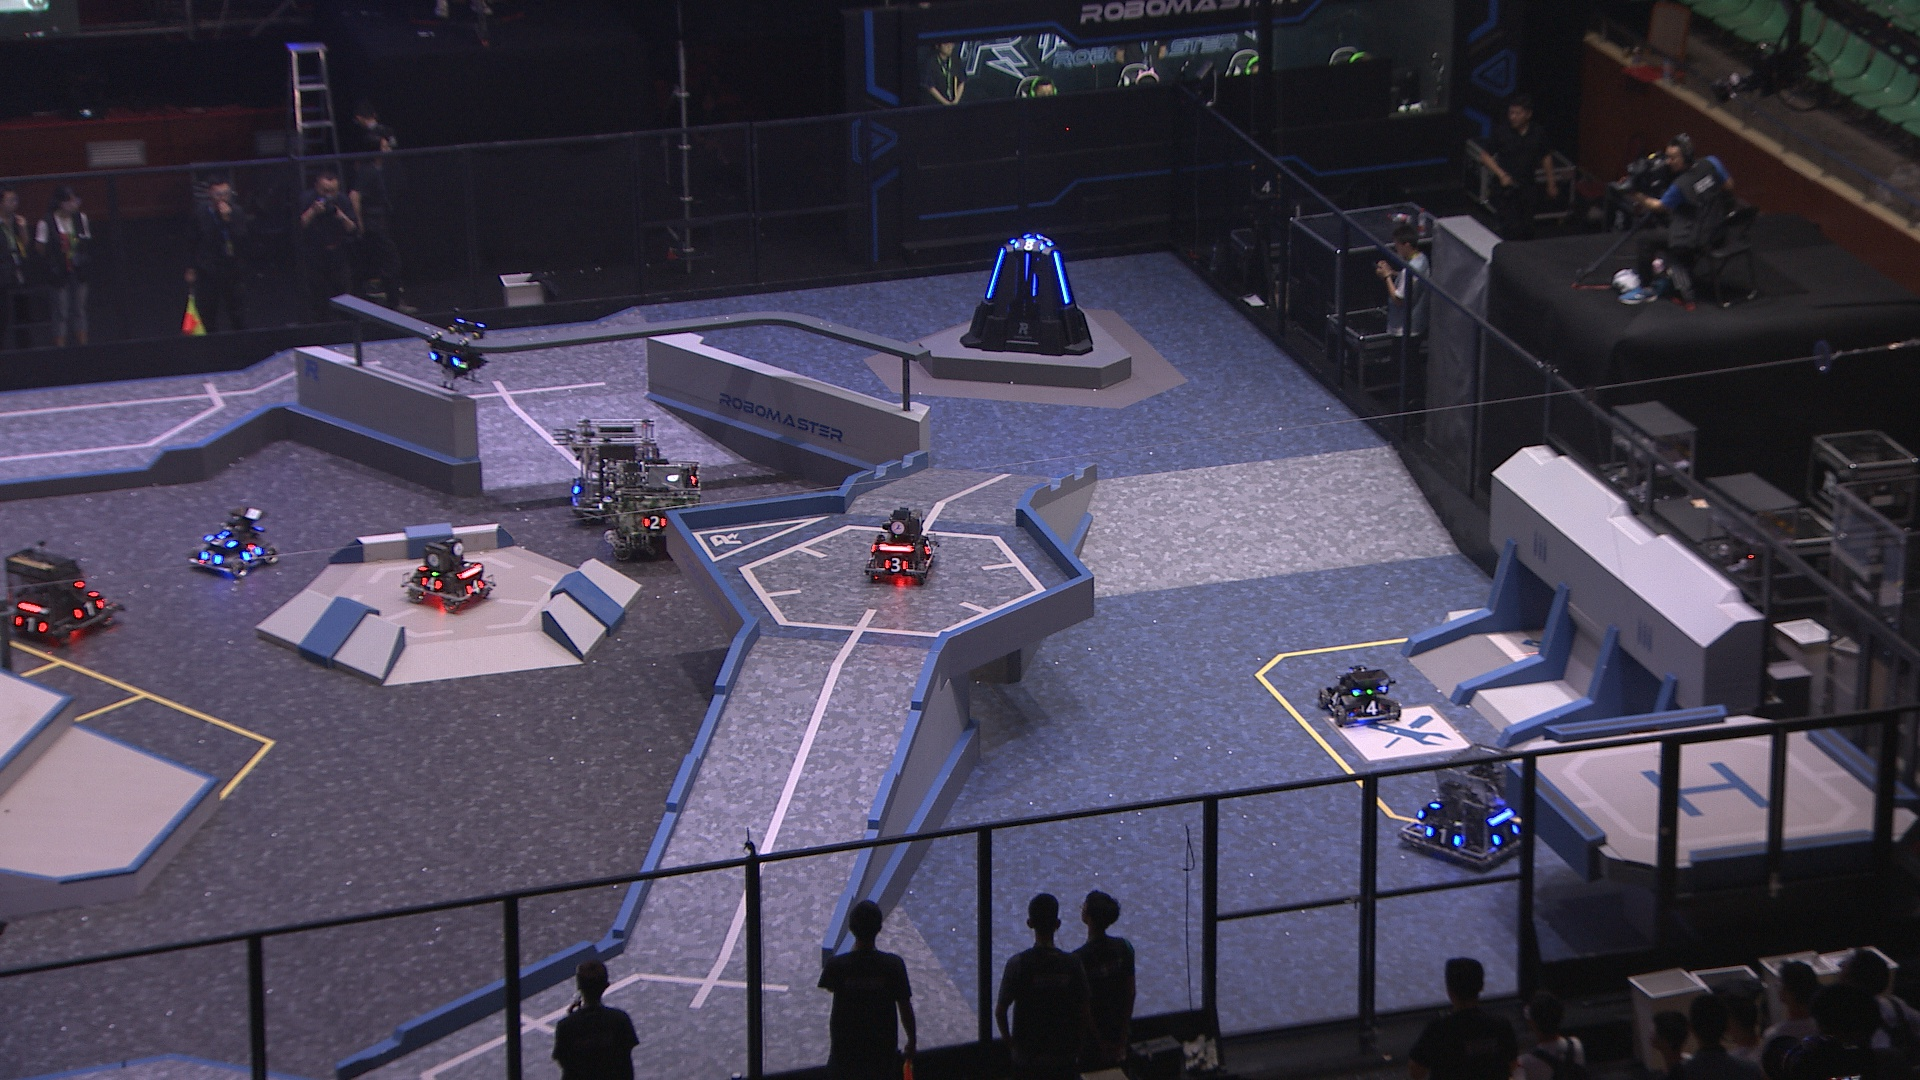armor: (982, 245, 1004, 301), (1054, 248, 1072, 305), (1427, 825, 1462, 847), (1493, 820, 1519, 847), (429, 349, 462, 371), (74, 597, 105, 618), (15, 615, 47, 633), (880, 556, 909, 572), (419, 572, 443, 591), (1015, 239, 1046, 252), (1022, 253, 1034, 286), (207, 534, 231, 550), (200, 551, 224, 567), (467, 576, 487, 595), (1360, 702, 1385, 716), (642, 517, 671, 529), (243, 546, 264, 560), (1329, 690, 1342, 709), (922, 541, 935, 556)
base: (960, 225, 1096, 357)
car: (1400, 746, 1527, 869), (603, 458, 709, 564), (555, 413, 662, 517), (406, 535, 489, 615), (191, 509, 278, 578), (1317, 662, 1400, 731), (862, 509, 936, 585)
watcher: (423, 315, 487, 389)
